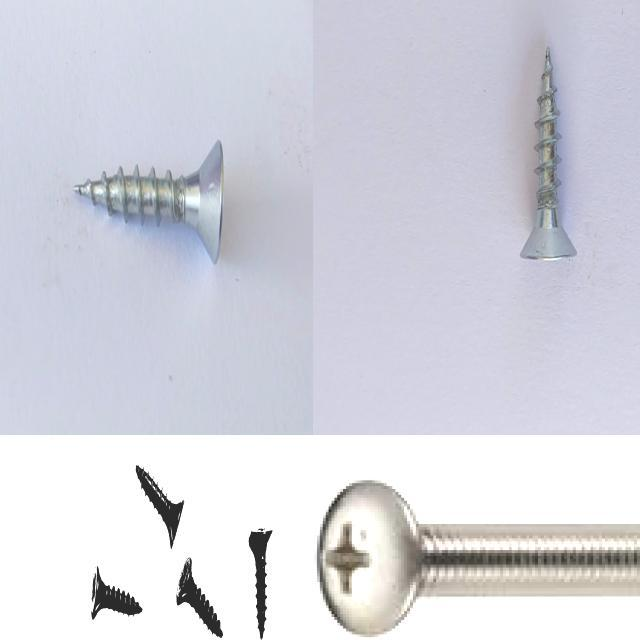Screw: (314, 480, 640, 640), (74, 140, 224, 263), (520, 47, 577, 259), (136, 464, 184, 547), (177, 556, 223, 636), (91, 565, 142, 618), (249, 527, 273, 637)
